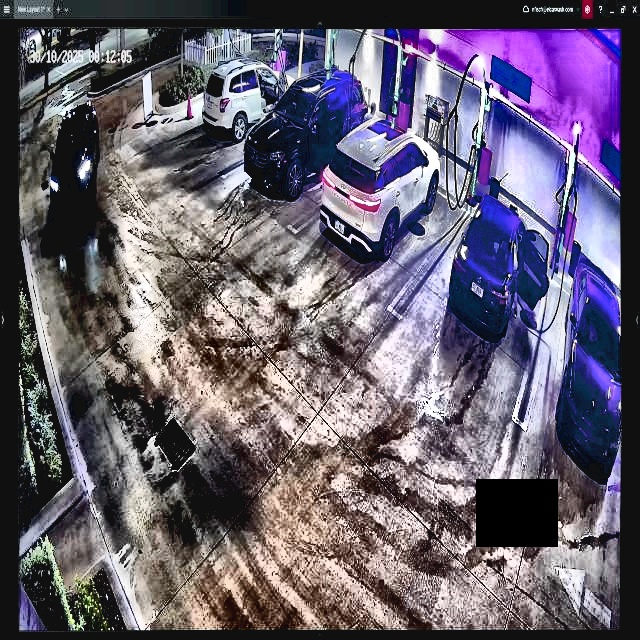Car: (322, 114, 438, 262), (449, 185, 548, 346), (243, 67, 365, 190)
